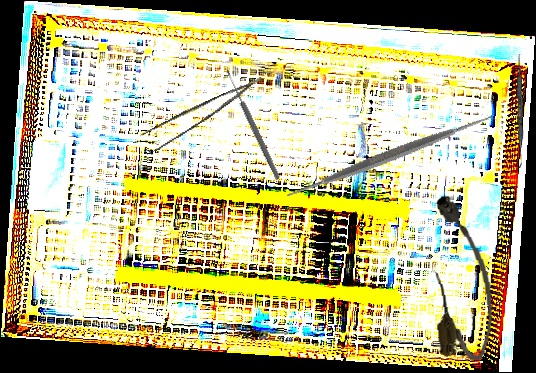Cannula: (425, 191, 498, 364)
Spatula Surgical: (275, 42, 505, 271), (515, 53, 525, 169)
Surgical Spoon: (224, 68, 282, 181)
Tissue Forceps: (136, 76, 271, 156)
